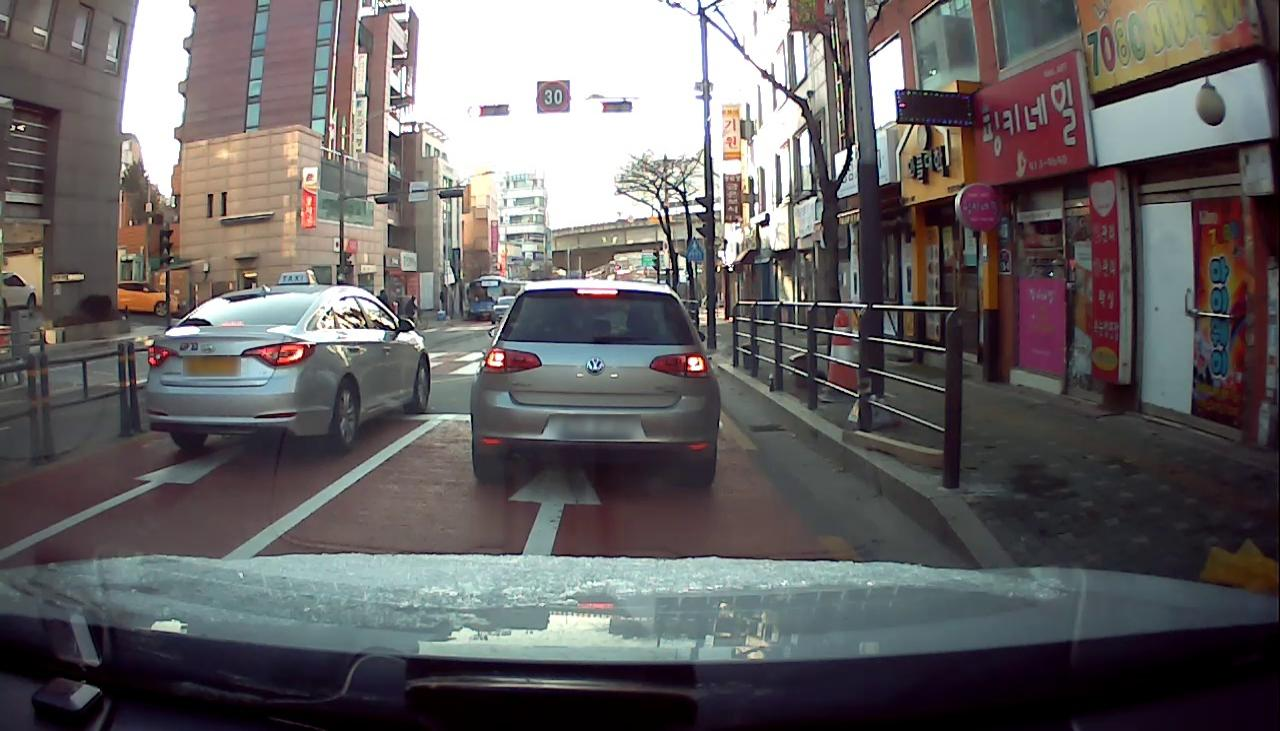Red Light: (588, 97, 606, 115), (466, 103, 483, 120)
